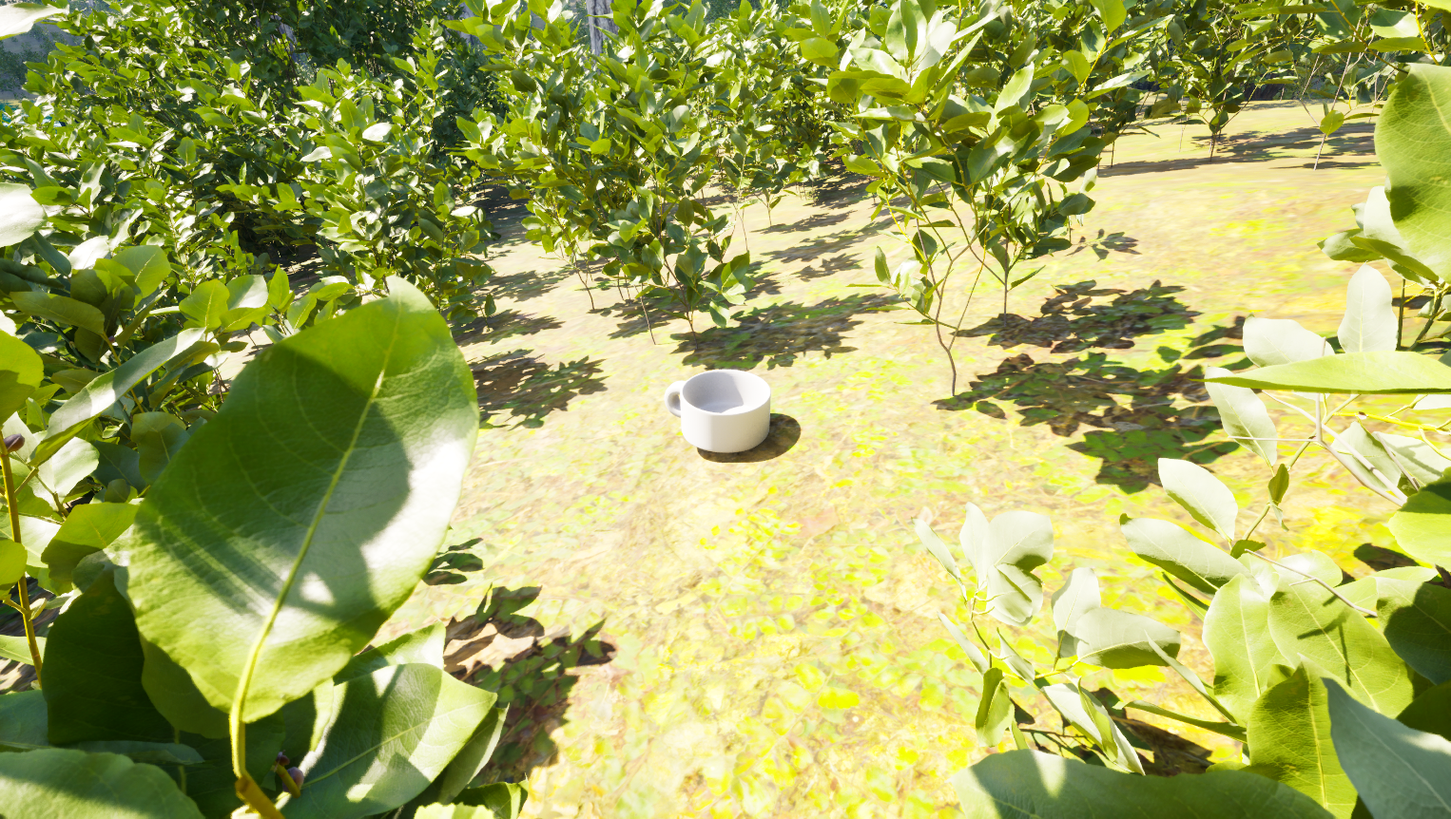Teacup: (658, 357, 790, 465)
